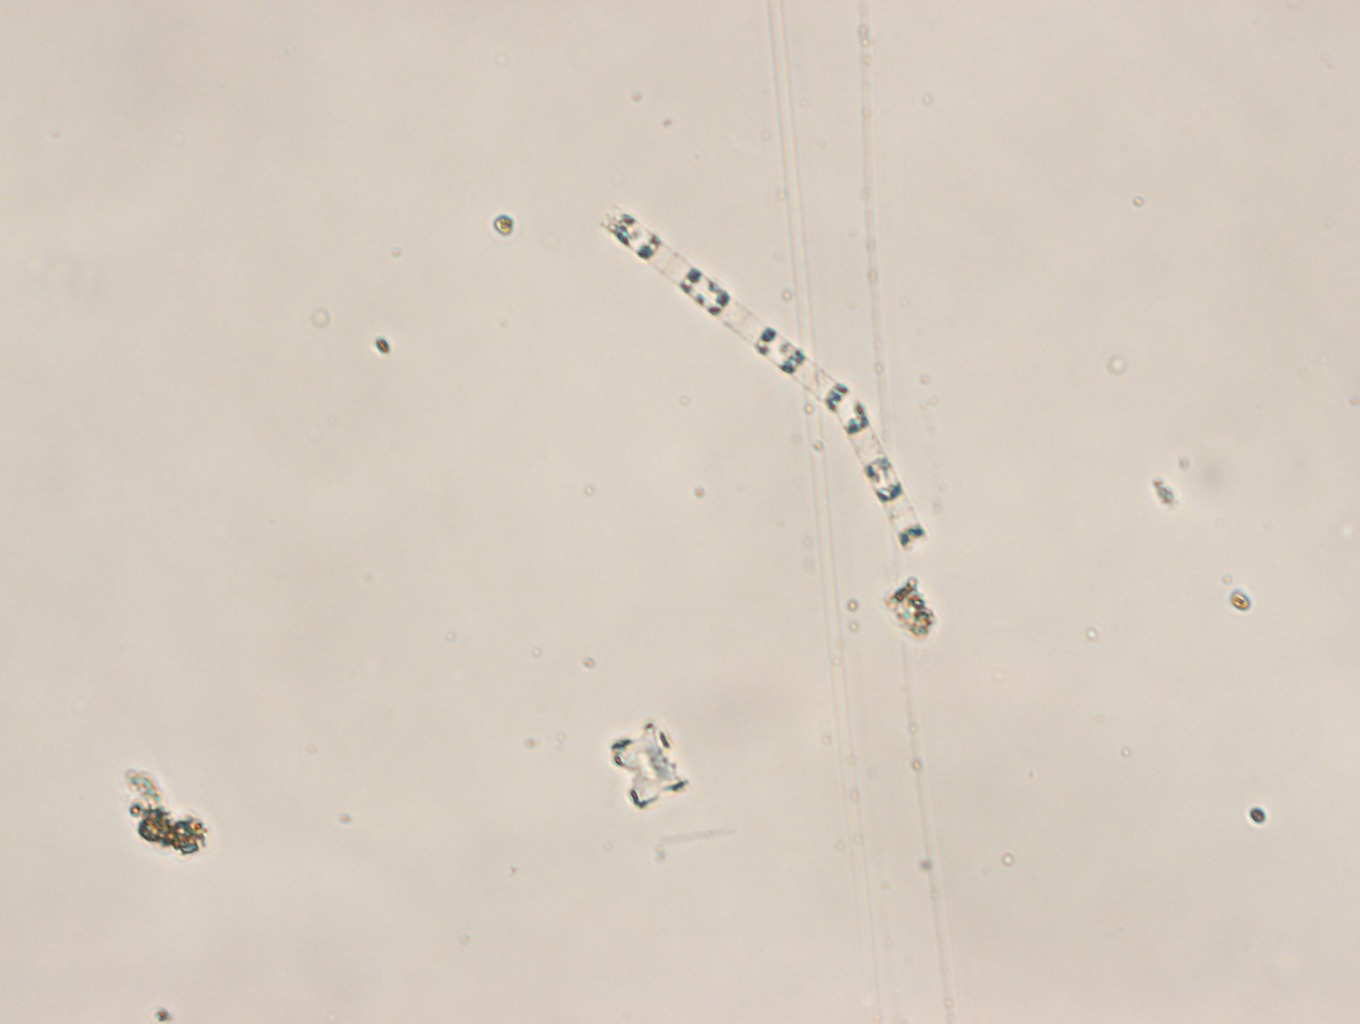skeletonema: (597, 207, 928, 559)
